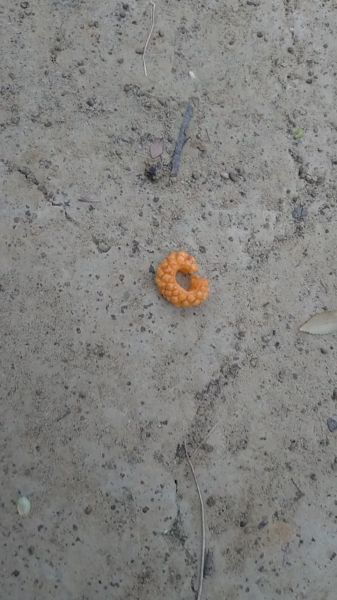eggs: (158, 248, 214, 309)
